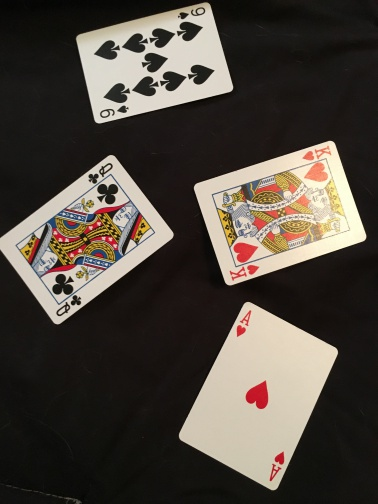ace: (175, 300, 338, 494)
king: (192, 141, 366, 288)
nine: (77, 2, 233, 127)
queen: (1, 153, 175, 327)
